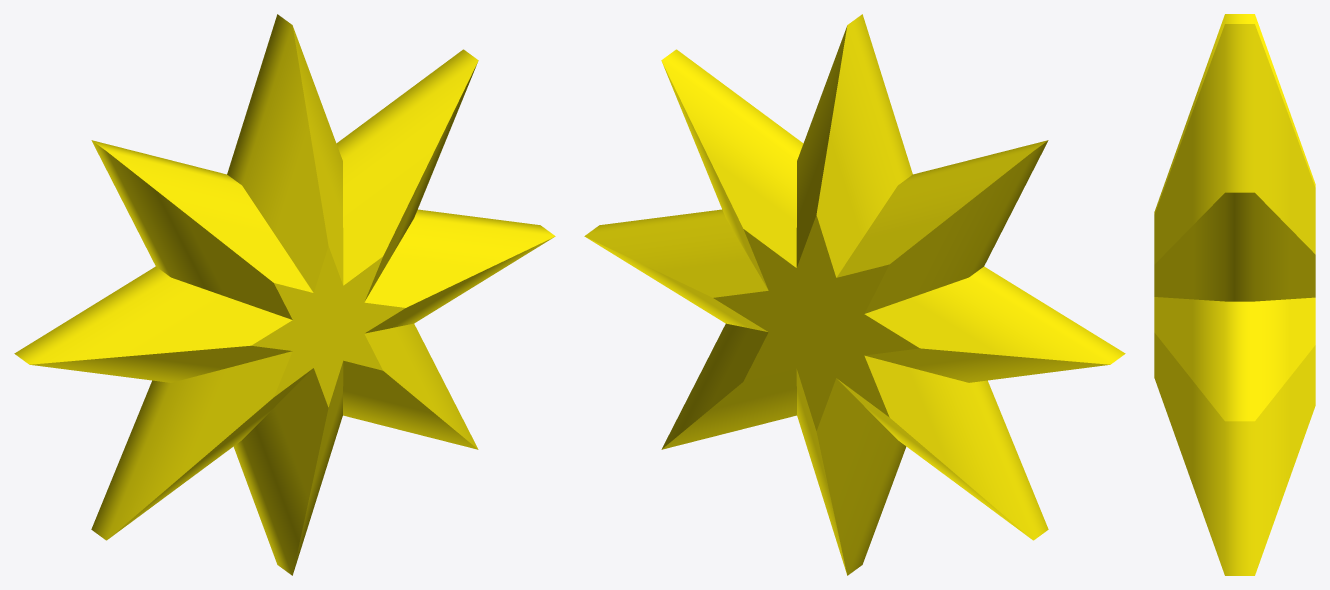
File: star.fbx
The picture shows the model from 3 angles, left to right: view 1: azimuth 30°, elevation 25°; view 2: azimuth 150°, elevation 25°; view 3: azimuth 270°, elevation 25°; orthographic projection.
Visible parts, largest first — view 1: Extrudieren_1; view 2: Extrudieren_1; view 3: Extrudieren_1.
Part boxes in pixels (x1,y1,x2,y2): Extrudieren_1: (14, 14, 555, 575); Extrudieren_1: (584, 14, 1125, 575); Extrudieren_1: (1154, 14, 1315, 575).
Size of the model in its own units: 400 by 400 by 108.
